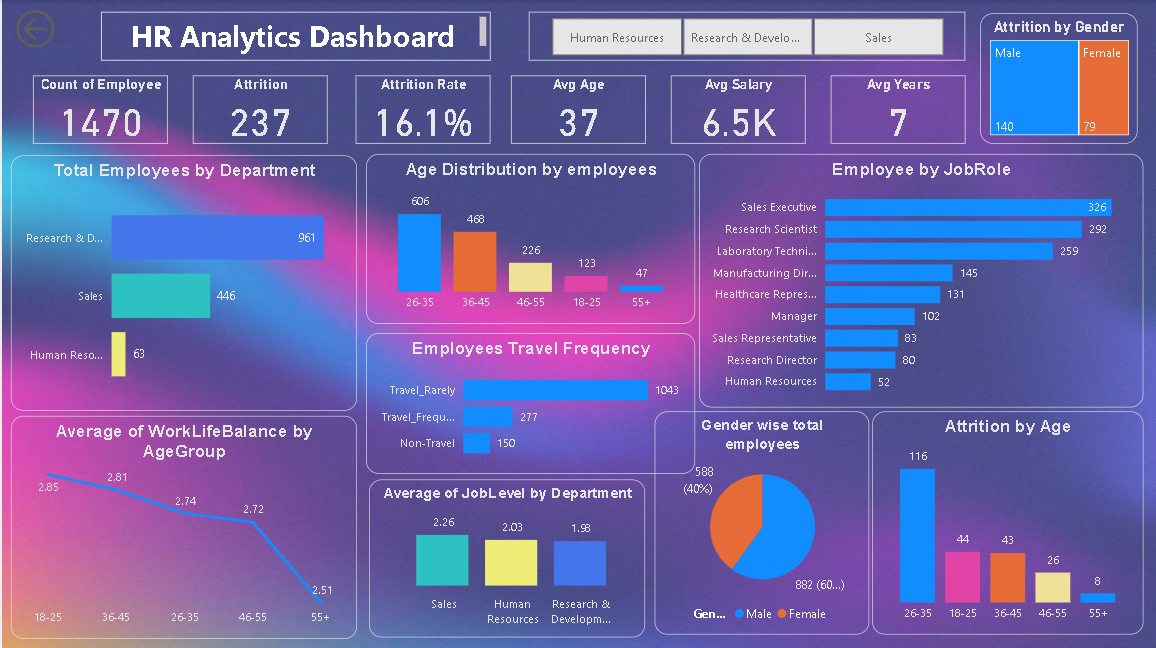

This screenshot's page, from the dashboard's own definition file:
{"tool":"powerbi","page":{"name":"Workforce Demographics & Composition","canvas":[1280,720],"ordinal":0},"visuals":[{"type":"card","title":"Count of Employee","fields":{"Values":["CountNonNull(HR_Analytics.EmpID)"]},"box":[35.3,84,149.5,75.6],"z":0},{"type":"card","title":"Attrition","fields":{"Values":["Sum(HR_Analytics.AttritionCount)"]},"box":[211.7,84,149.5,75.6],"z":1000},{"type":"card","title":"Attrition Rate","fields":{"Values":["HR_Analytics.AttritionRate"]},"box":[391.4,84,149.5,75.6],"z":2000},{"type":"card","title":"Avg Age","fields":{"Values":["Avg(HR_Analytics.Age)"]},"box":[564.4,84,149.5,75.6],"z":3000},{"type":"actionButton","box":[9.8,4.9,62.4,54.1],"z":4000},{"type":"card","title":"Avg Salary","fields":{"Values":["Avg(HR_Analytics.MonthlyIncome)"]},"box":[742.5,84,149.5,75.6],"z":5000},{"type":"card","title":"Avg Years","fields":{"Values":["Avg(HR_Analytics.YearsAtCompany)"]},"box":[918.8,84,149.5,75.6],"z":6000},{"type":"treemap","title":"Attrition by Gender","fields":{"Group":["HR_Analytics.Gender"],"Values":["Sum(HR_Analytics.AttritionCount)"]},"box":[1085,14.1,174,144.3],"z":7000},{"type":"slicer","fields":{"Values":["HR_Analytics.Department"]},"box":[584.2,13.1,484.1,54.2],"z":8000},{"type":"textbox","box":[109.9,13.1,431.6,54.1],"z":9000},{"type":"clusteredBarChart","title":"Total Employees by Department","fields":{"Category":["HR_Analytics.Department"],"Y":["Sum(HR_Analytics.EmployeeCount)"]},"box":[9.5,173,384,283.2],"z":10000},{"type":"clusteredColumnChart","title":"Attrition by Age","fields":{"Category":["HR_Analytics.AgeGroup"],"Y":["Sum(HR_Analytics.AttritionCount)"]},"box":[965.7,456.2,300.3,247.1],"z":11000},{"type":"clusteredBarChart","title":"Employee by JobRole","fields":{"Category":["HR_Analytics.JobRole"],"Y":["Sum(HR_Analytics.EmployeeCount)"]},"box":[773.7,171.1,492.3,281.3],"z":12000},{"type":"clusteredColumnChart","title":"Age Distribution by employees ","fields":{"Category":["HR_Analytics.AgeGroup"],"Y":["Sum(HR_Analytics.EmployeeCount)"]},"box":[403,171.1,365,188.2],"z":13000},{"type":"lineChart","fields":{"Category":["HR_Analytics.AgeGroup"],"Y":["Avg(HR_Analytics.WorkLifeBalance)"]},"box":[9.5,461.9,384,247.1],"z":14000},{"type":"clusteredBarChart","title":"Employees Travel Frequency","fields":{"Category":["HR_Analytics.BusinessTravel"],"Y":["CountNonNull(HR_Analytics.EmpID)"]},"box":[403,368.8,365,155.9],"z":15000},{"type":"columnChart","fields":{"Category":["HR_Analytics.Department"],"Y":["Avg(HR_Analytics.JobLevel)"]},"box":[406.8,532.3,306,174.9],"z":15001},{"type":"pieChart","title":"Gender wise total employees","fields":{"Category":["HR_Analytics.Gender"],"Y":["CountNonNull(HR_Analytics.EmployeeCount)"]},"box":[724.2,456.2,237.6,247.1],"z":15002}]}

Visuals, with their boxes in screenshot pixels (x1, y1, x2, y2), scaled from the page's 1280x720 canvas onto the 1156x648 screenshot:
"Count of Employee" card: [32, 76, 167, 144]
"Attrition" card: [191, 76, 326, 144]
"Attrition Rate" card: [353, 76, 489, 144]
"Avg Age" card: [510, 76, 645, 144]
actionButton: [9, 4, 65, 53]
"Avg Salary" card: [671, 76, 806, 144]
"Avg Years" card: [830, 76, 965, 144]
"Attrition by Gender" treemap: [980, 13, 1137, 143]
slicer - HR_Analytics.Department: [528, 12, 965, 61]
textbox: [99, 12, 489, 60]
"Total Employees by Department" clusteredBarChart: [9, 156, 355, 411]
"Attrition by Age" clusteredColumnChart: [872, 411, 1143, 633]
"Employee by JobRole" clusteredBarChart: [699, 154, 1143, 407]
"Age Distribution by employees " clusteredColumnChart: [364, 154, 694, 323]
lineChart - HR_Analytics.AgeGroup x Avg(HR_Analytics.WorkLifeBalance): [9, 416, 355, 638]
"Employees Travel Frequency" clusteredBarChart: [364, 332, 694, 472]
columnChart - HR_Analytics.Department x Avg(HR_Analytics.JobLevel): [367, 479, 644, 636]
"Gender wise total employees" pieChart: [654, 411, 869, 633]
